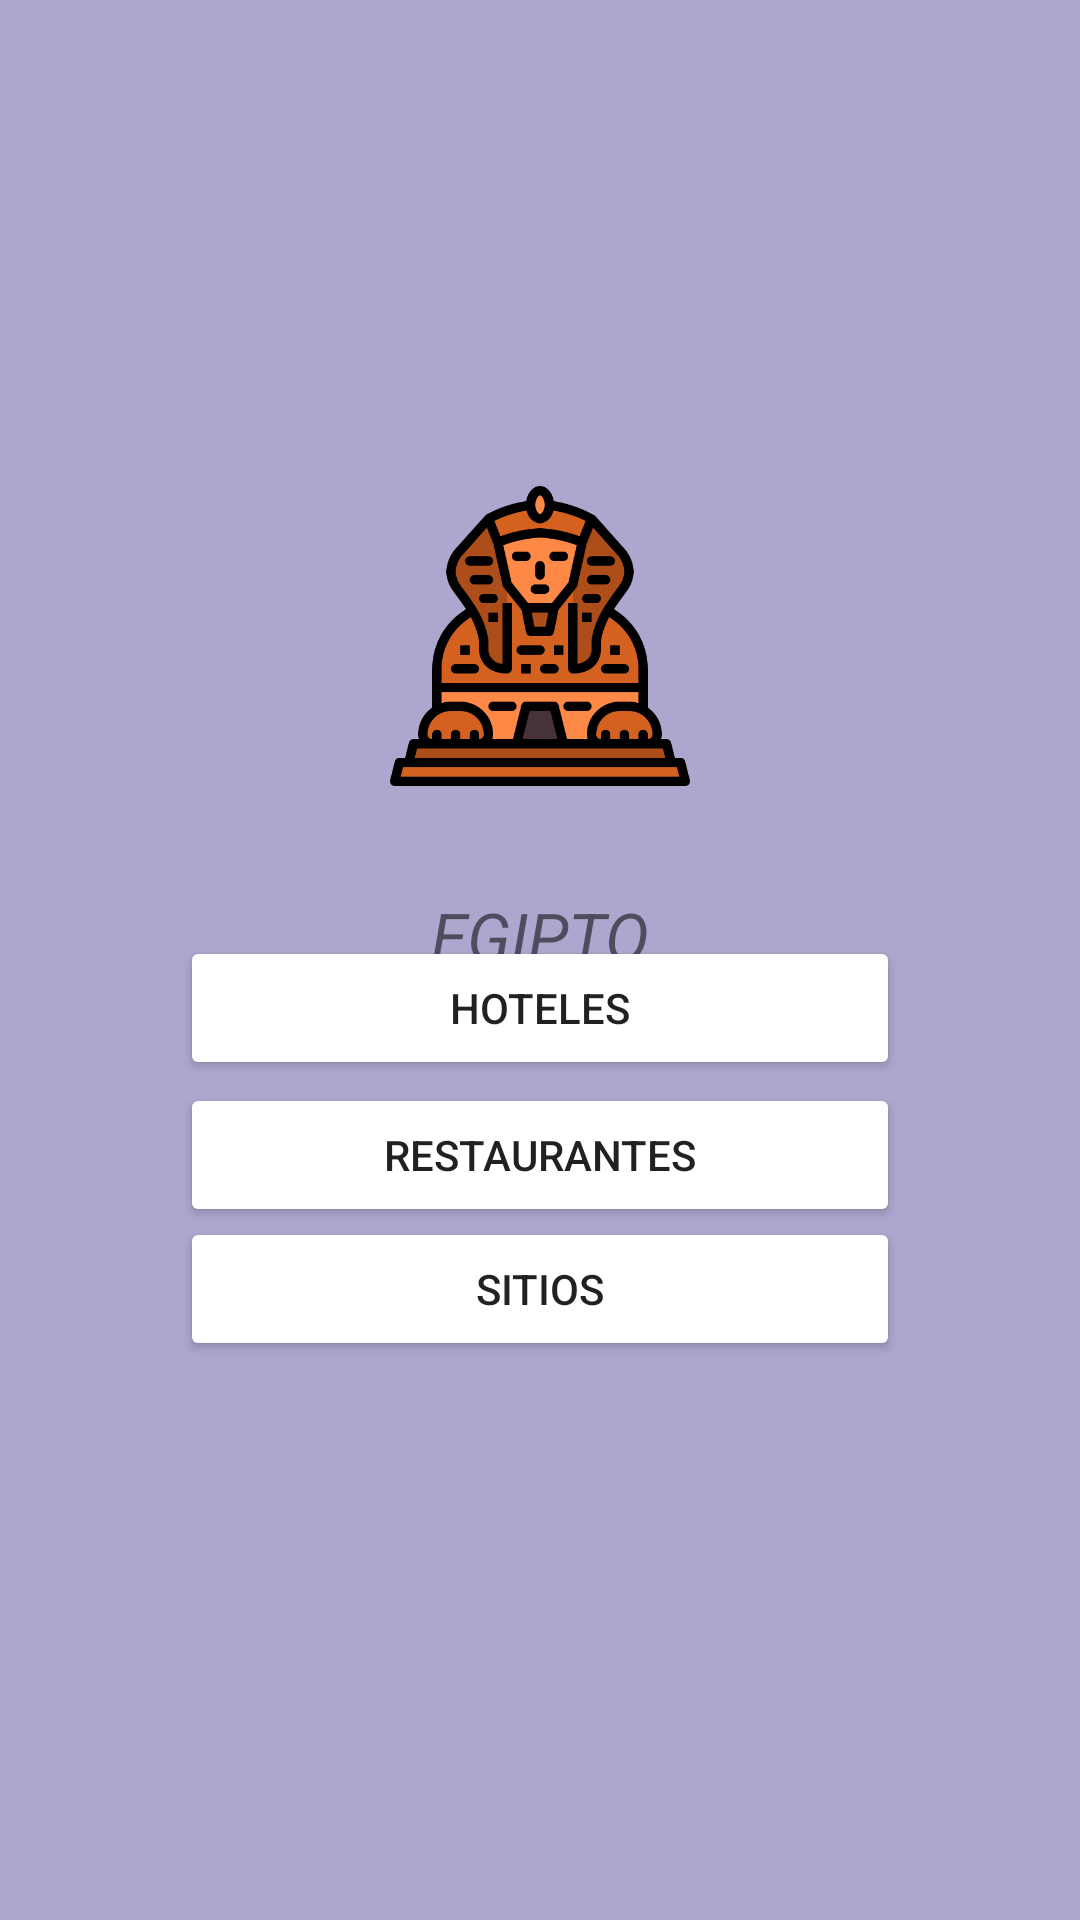

Named icons in this screenshot (1080px x 1920px) and their bounding boxes, [x1,y1,x2,y2]:
esfinge: [390,486,690,786]
